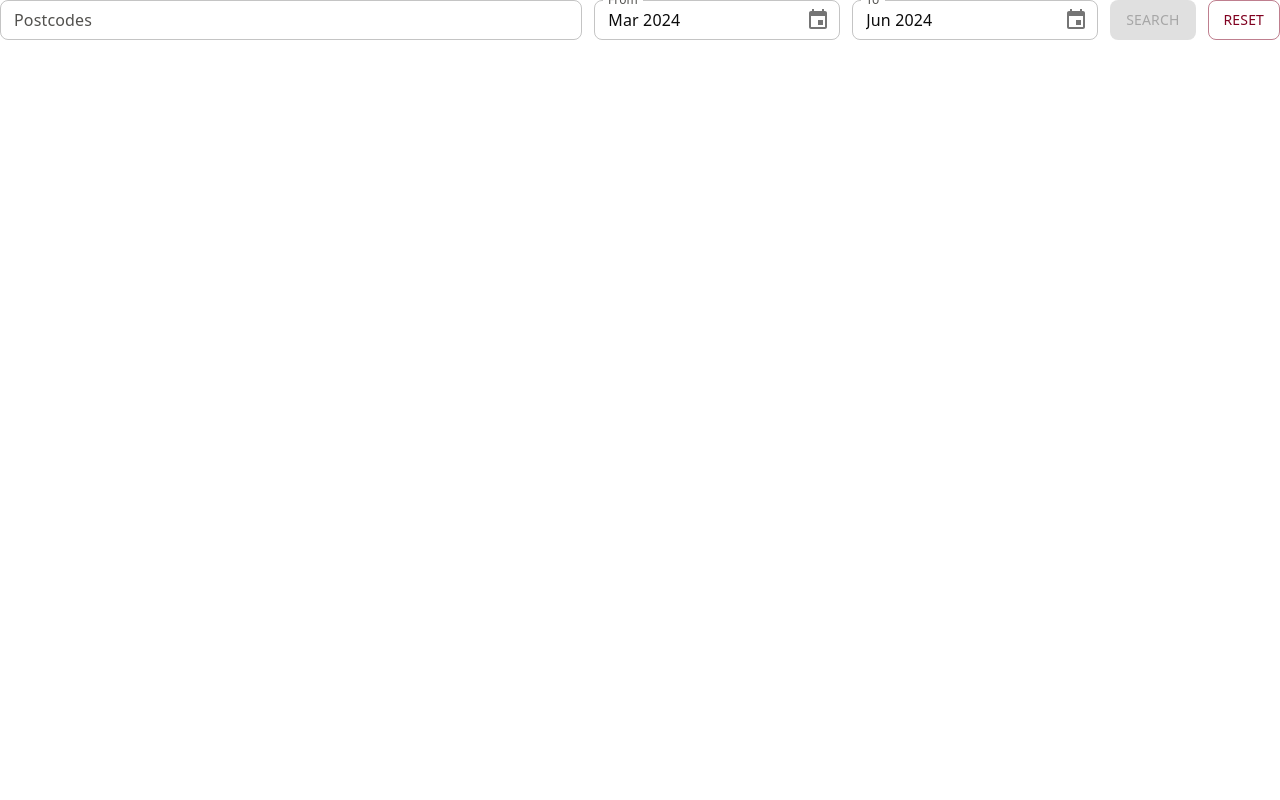
Test: SearchBar › greys out To months before From
Click the button named "Choose date, selected date is Jun 1, 2024".
click(1076, 20)  # box [1056,0,1096,40]
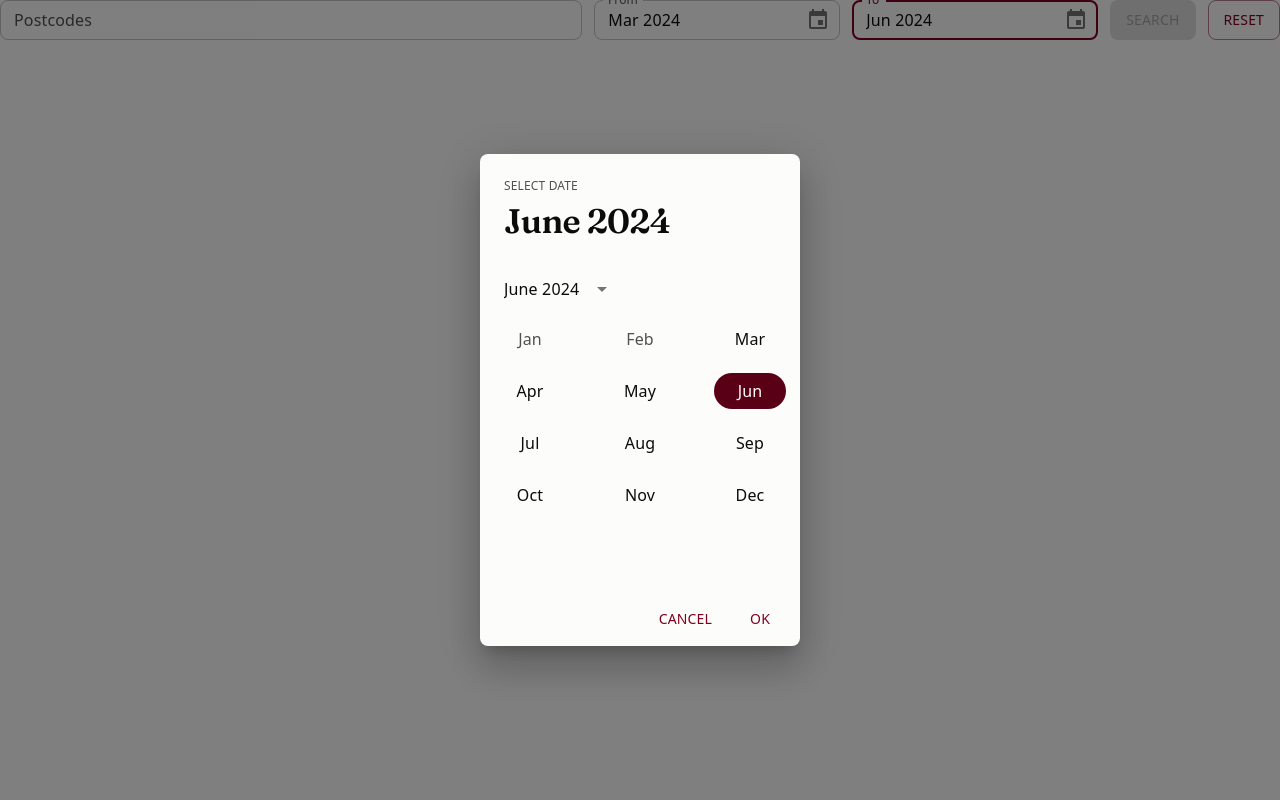
Expected: the radio button with aria-label "January" is disabled, [494,321,566,357]
Expected: the radio button with aria-label "February" is disabled, [604,321,676,357]
Expected: the radio button with aria-label "March" is enabled, [714,321,786,357]
